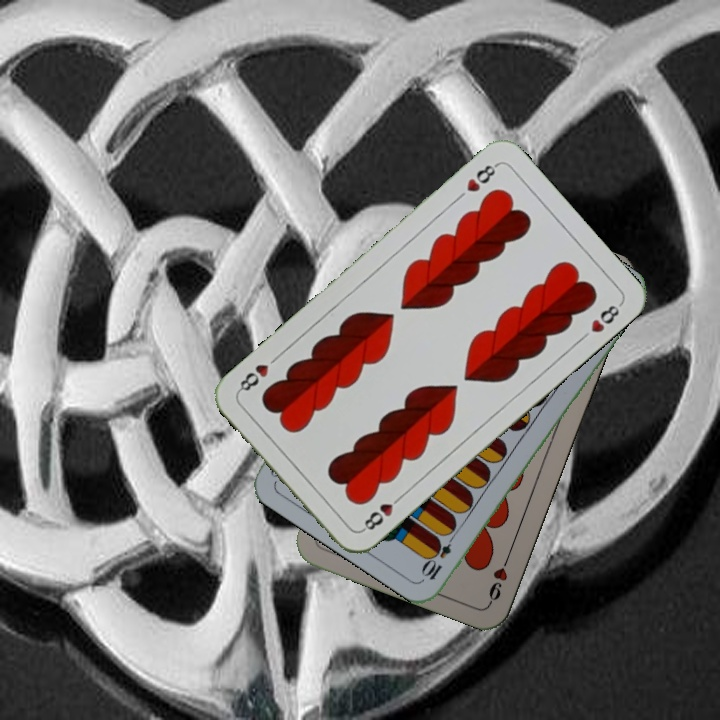E10: (419, 528, 459, 583)
H8: (357, 490, 406, 534), (462, 159, 501, 195)
H9: (484, 549, 513, 606)
